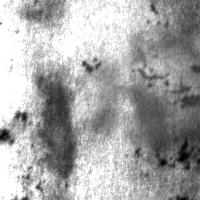patches: (74, 9, 200, 153), (34, 75, 78, 177), (133, 1, 200, 62), (121, 90, 178, 156), (65, 0, 147, 45), (149, 138, 196, 169), (161, 78, 200, 112), (1, 108, 30, 149), (79, 54, 104, 74)
